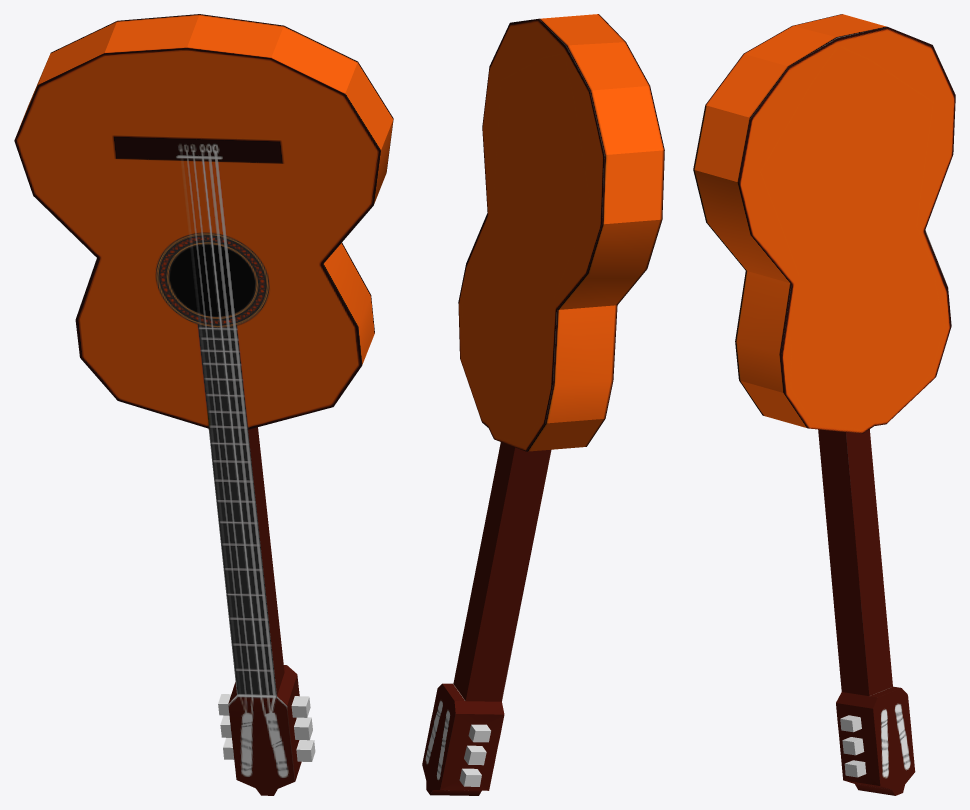
The model's file is guitarra2_000208.obj.
3 views of the same model, side by side, from view 1: azimuth 30°, elevation 25°; view 2: azimuth 150°, elevation 25°; view 3: azimuth 270°, elevation 25° (orthographic). The views are drawn at different scales.
Visible parts, largest first — view 1: g2_pPlane4.001; view 2: g2_pPlane4.001; view 3: g2_pPlane4.001.
Part boxes in pixels (x1,y1,x2,y2): g2_pPlane4.001: [14, 14, 393, 795]; g2_pPlane4.001: [422, 14, 664, 795]; g2_pPlane4.001: [693, 14, 955, 795].
Size of the model in its own units: 4.58 by 12.25 by 4.07.
